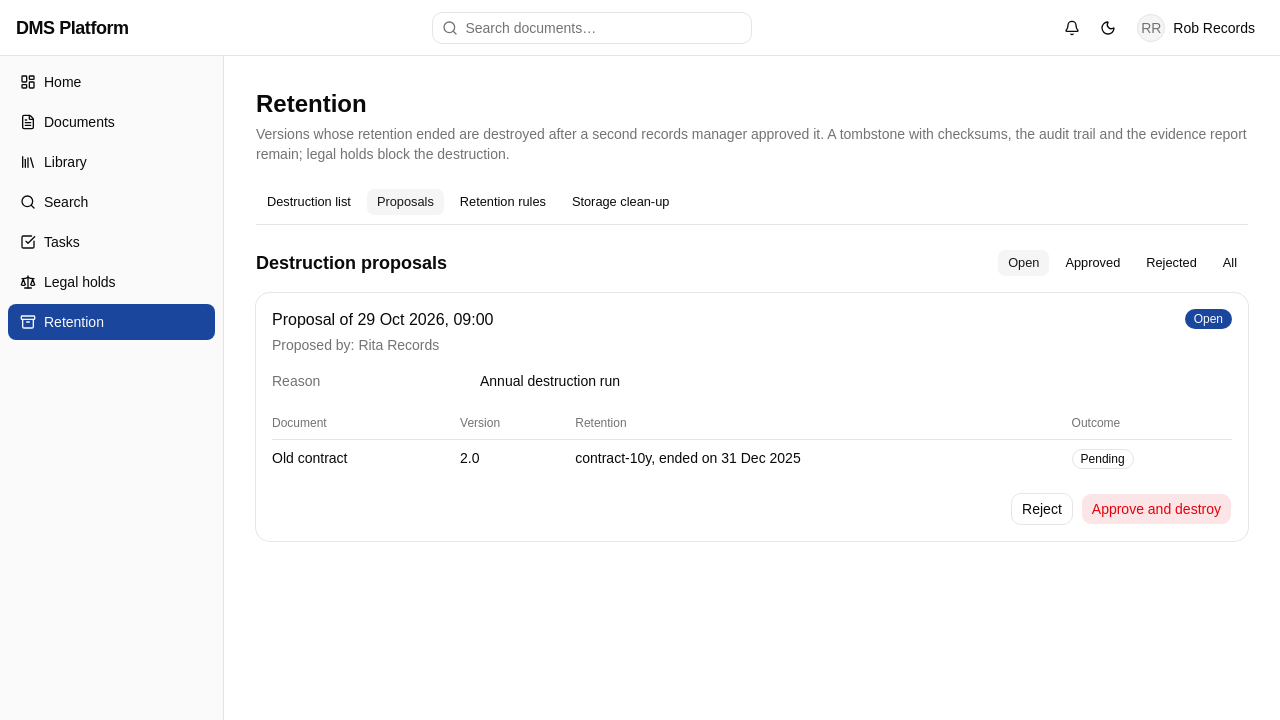
destruction proposals › approves only with reason and explicit confirmation
The width and height of the screenshot is (1280, 720).
Click the button "Approve and destroy": (1156, 509) left=1081, top=493, right=1232, bottom=525
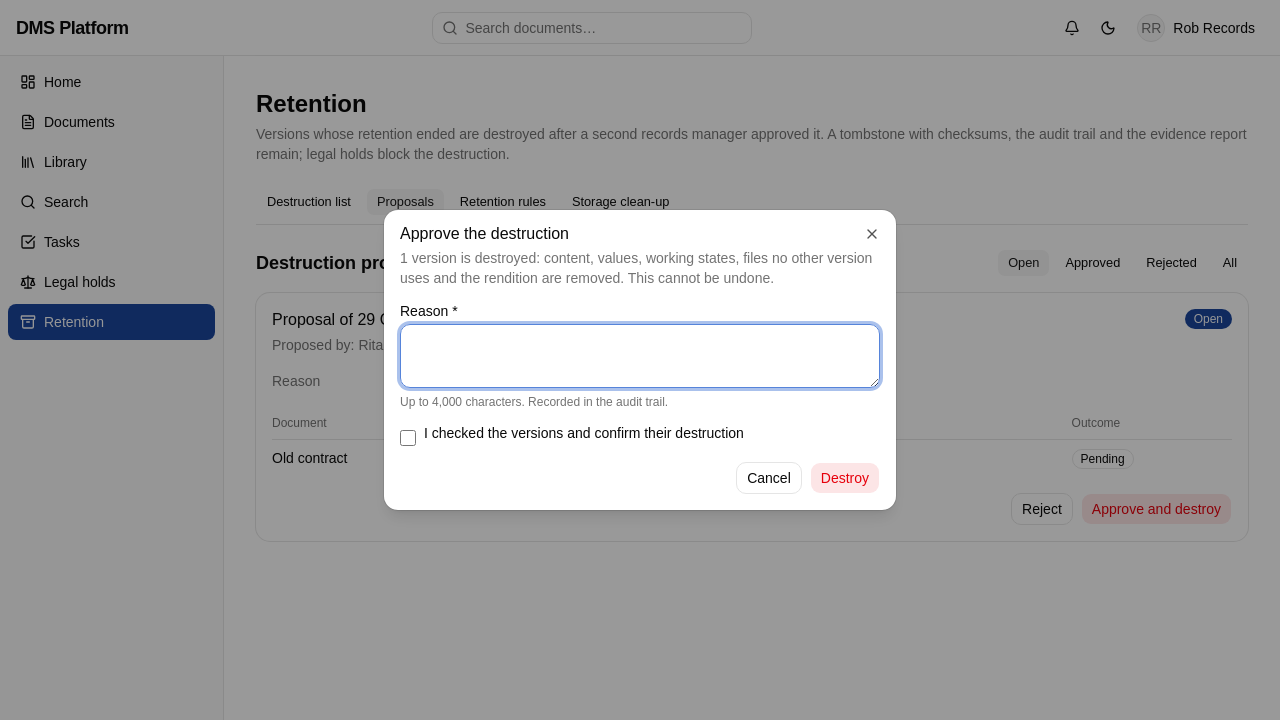
Now the text "This cannot be undone" is shown, box left=400, top=250, right=872, bottom=286
In the text box labelled "Reason *": (640, 356) left=400, top=324, right=880, bottom=388, type "Checked"
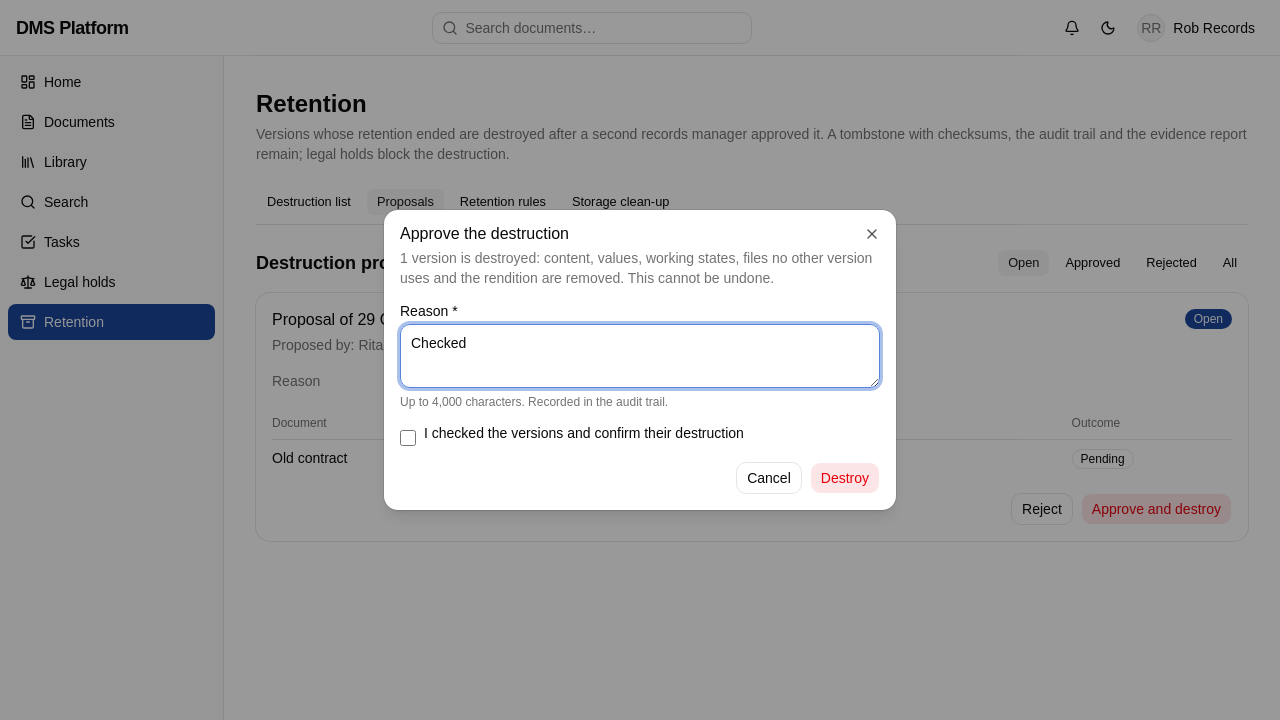
Click the button "Destroy": (845, 478) left=810, top=462, right=880, bottom=494
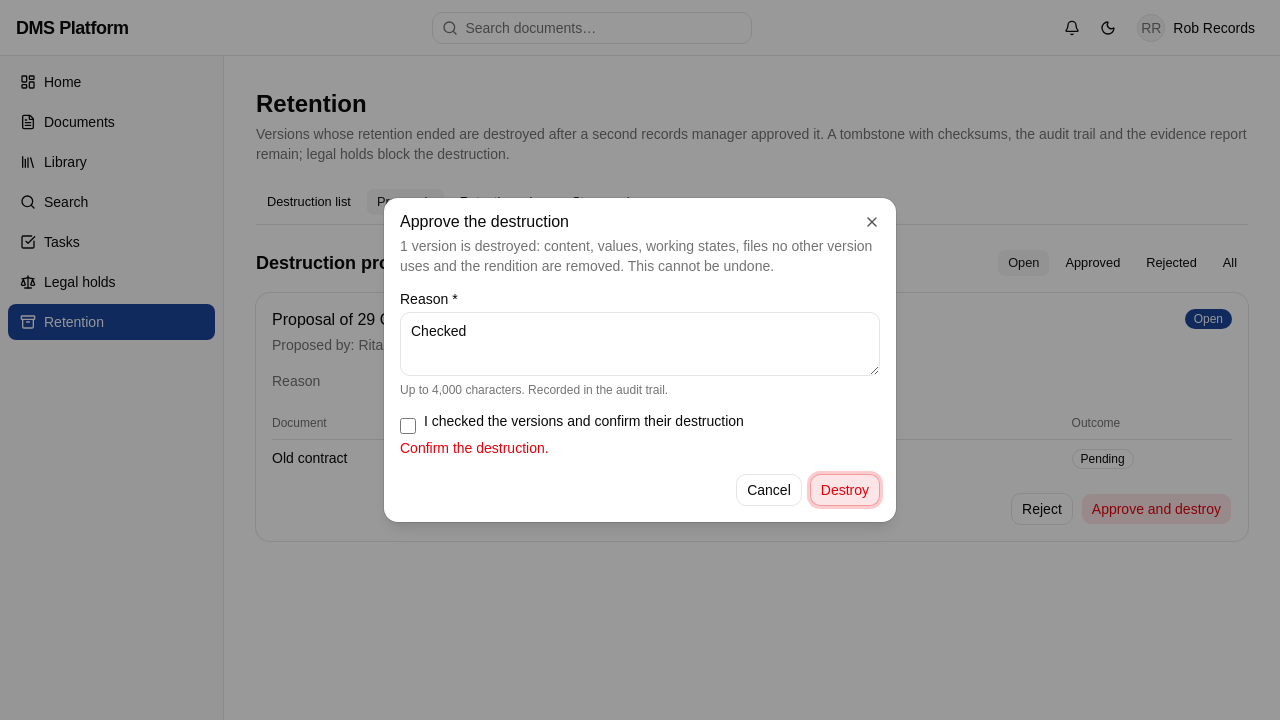
Now the text "Confirm the destruction." is shown, box left=400, top=440, right=549, bottom=456
Click the checkbox labelled "I checked the versions and confirm their destruction": (408, 426) left=400, top=418, right=416, bottom=434
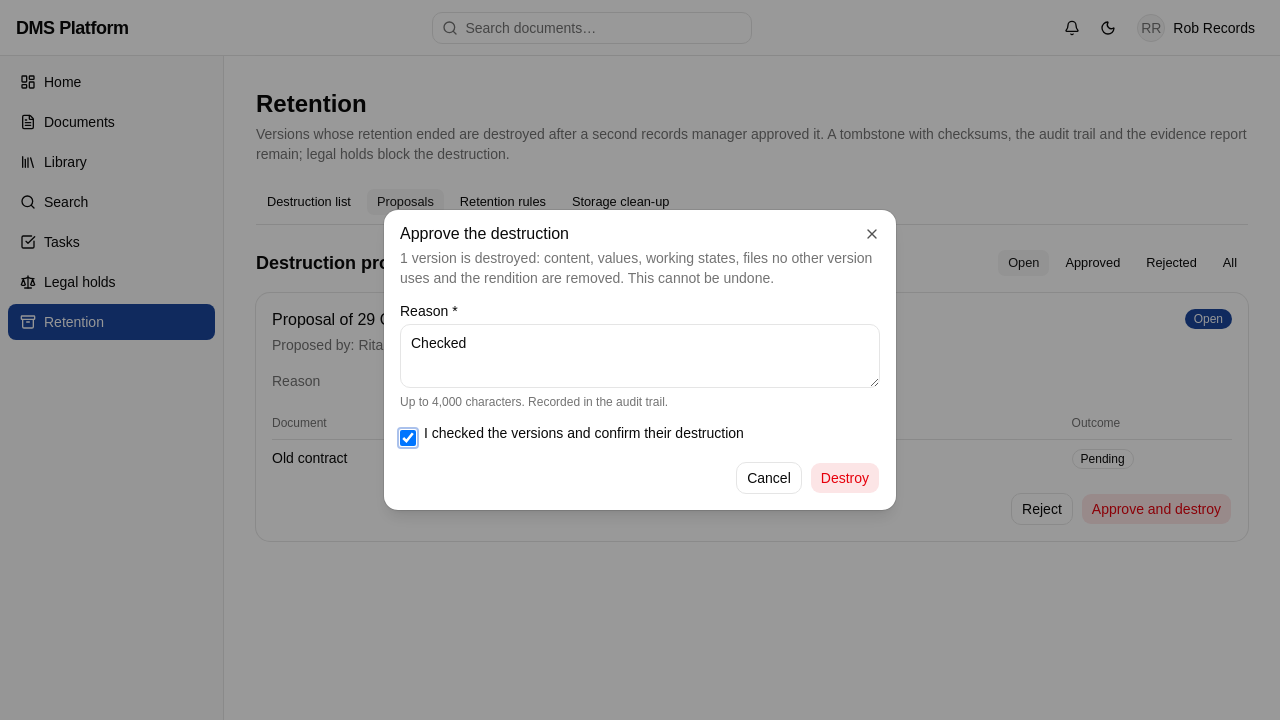
Click the button "Destroy": (845, 478) left=810, top=462, right=880, bottom=494
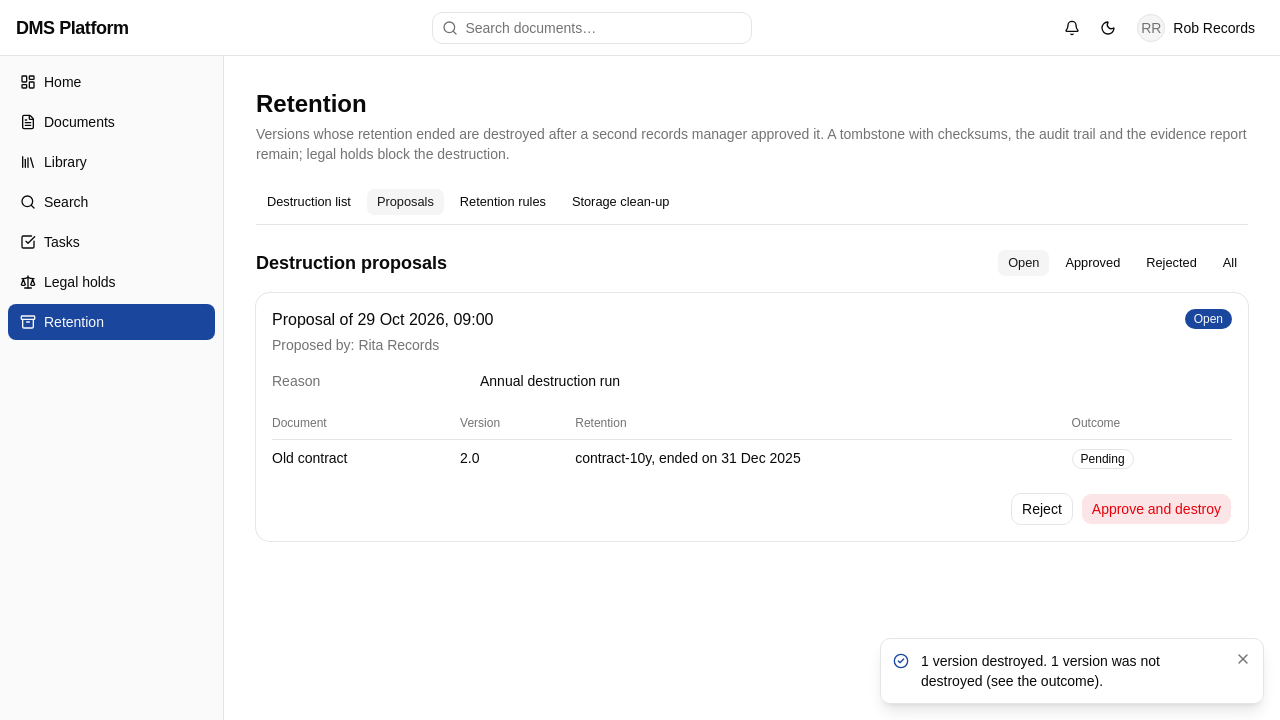
Now the text "1 version destroyed. 1 version was not destroyed (see the outcome)." is shown, box left=921, top=653, right=1160, bottom=689
